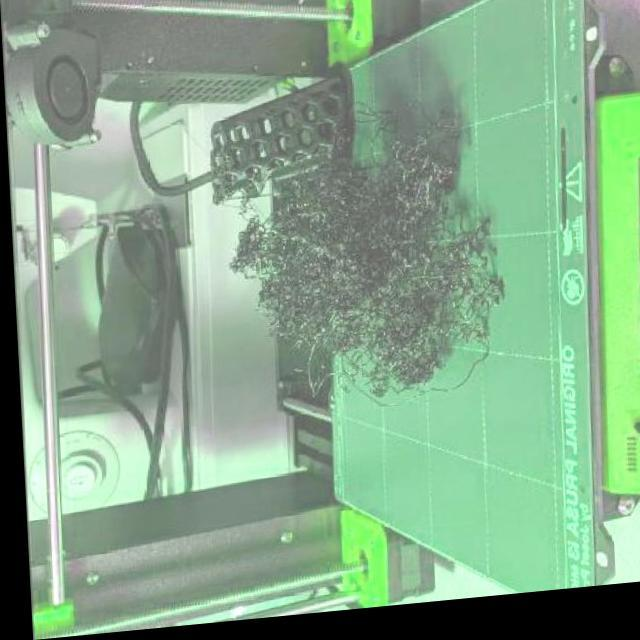spaghetti: (218, 101, 501, 428)
